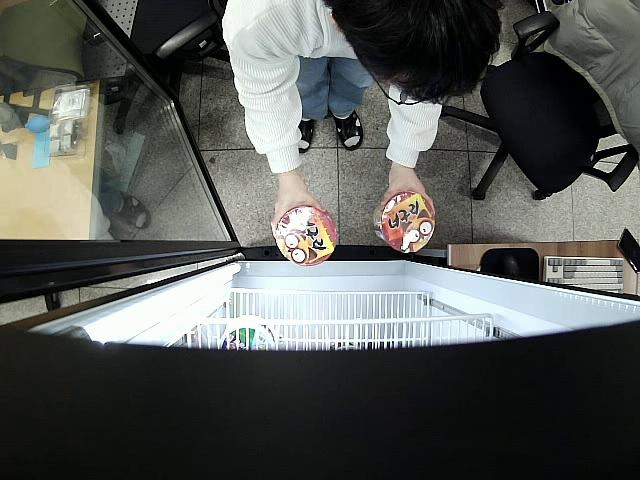00_hand: (269, 174, 328, 242), (380, 164, 438, 220)
05_nuguri_L: (373, 195, 435, 253), (275, 207, 336, 265)
